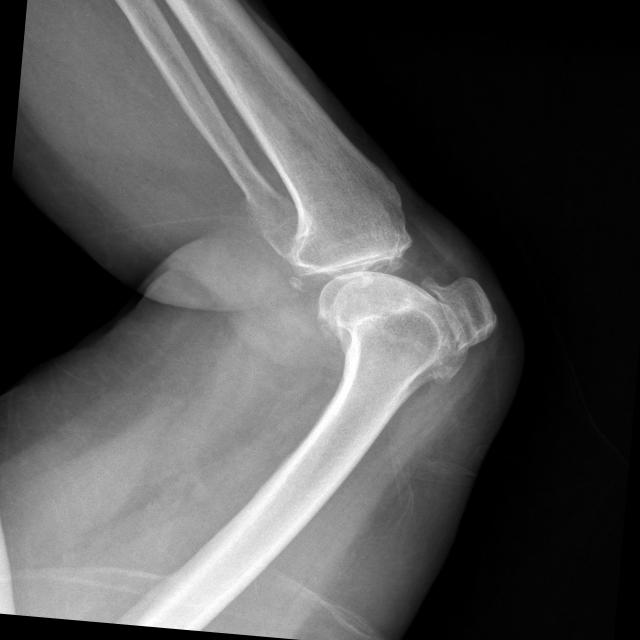Knee: (278, 206, 512, 394)
